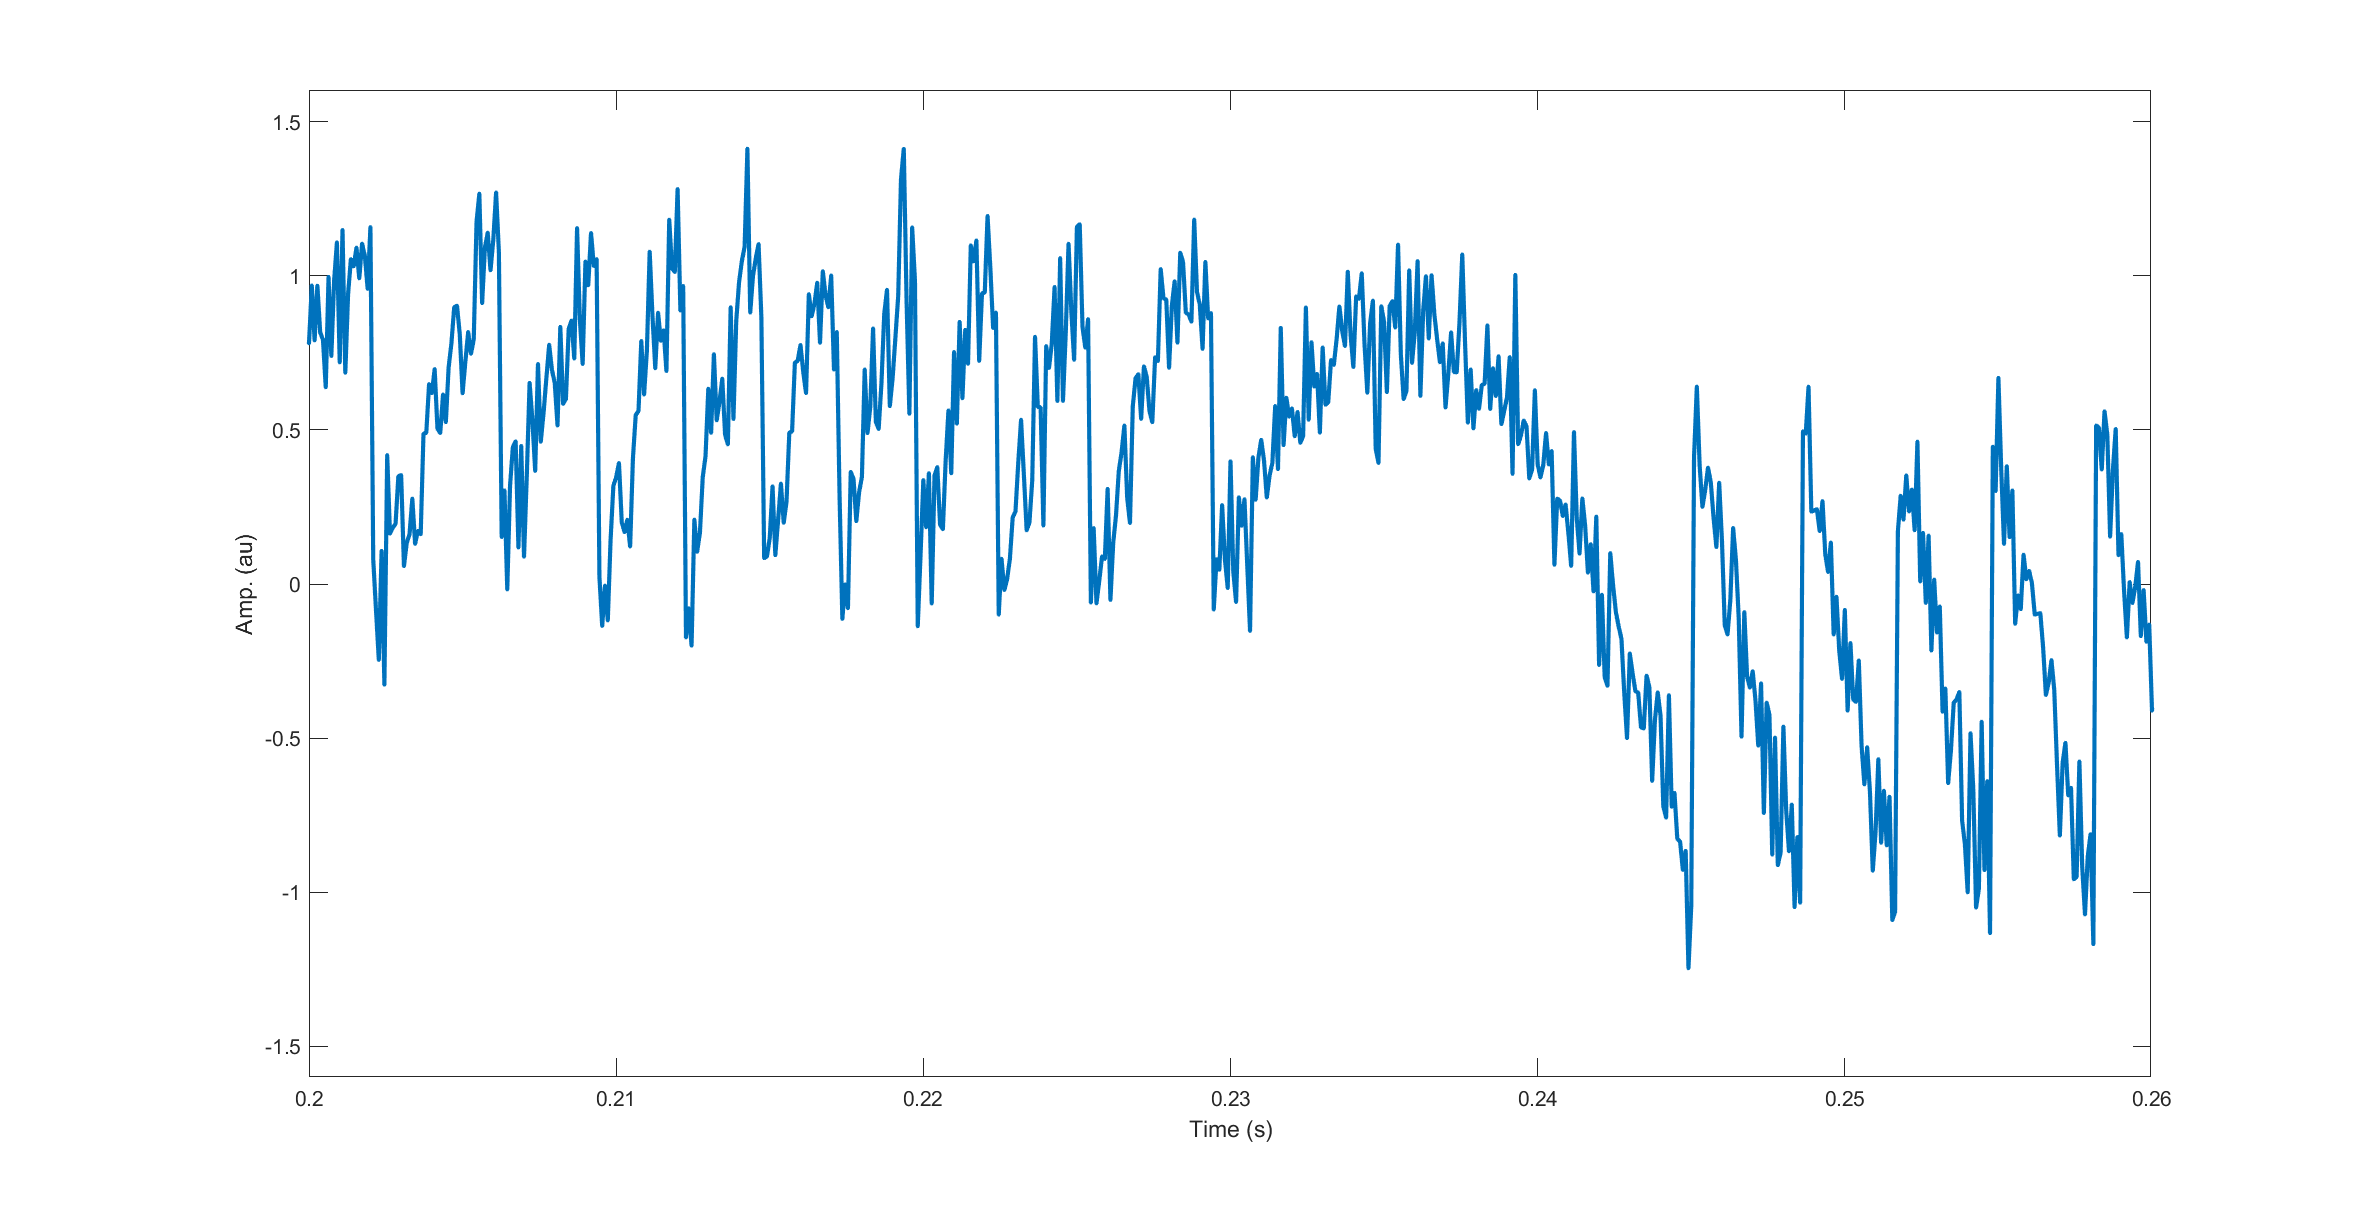negative_fringe: (1676, 377, 1789, 978), (1981, 380, 2072, 928), (1795, 373, 1880, 898), (1887, 446, 1975, 931), (2082, 394, 2150, 958)
positive_fringe: (1100, 211, 1221, 596), (400, 179, 508, 607), (508, 219, 610, 607), (316, 213, 390, 691), (616, 171, 690, 648), (860, 136, 926, 647), (1015, 198, 1097, 600), (931, 208, 1005, 600), (707, 144, 772, 579), (784, 265, 847, 596)
